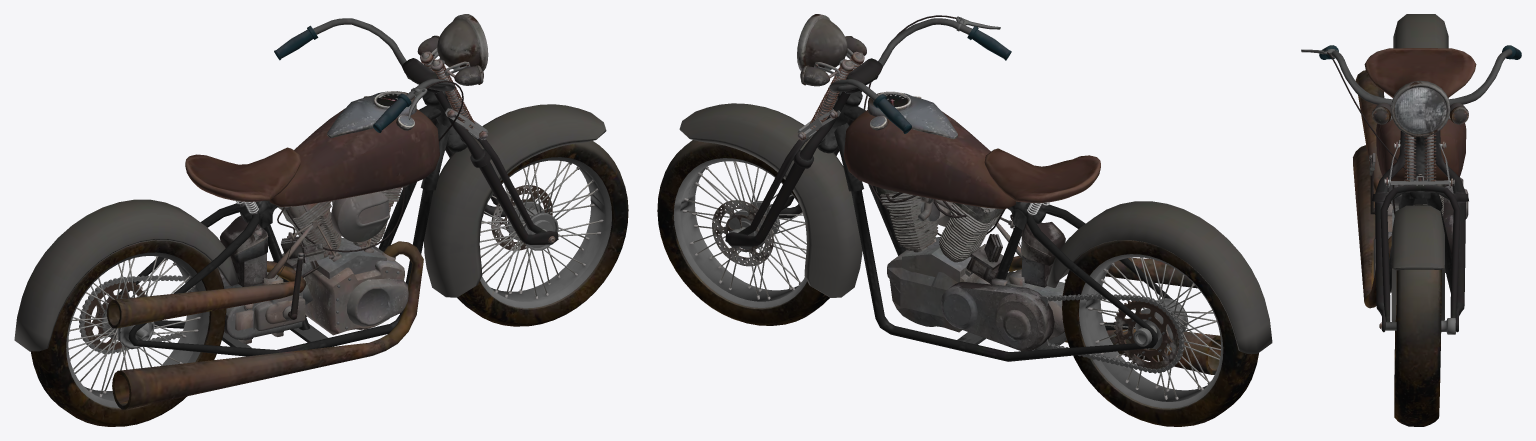
Rendered from motorbike.glb.
3 renders of one model, left to right at view 1: azimuth 30°, elevation 25°; view 2: azimuth 150°, elevation 25°; view 3: azimuth 270°, elevation 25°, orthographic. The views are drawn at different scales.
Visible parts, largest first — view 1: Object_9, Object_7, Object_4, Object_2, Object_8, Object_5, Object_6, Object_3; view 2: Object_9, Object_4, Object_7, Object_5, Object_8, Object_6, Object_3, Object_2; view 3: Object_9, Object_4, Object_7, Object_2, Object_8, Object_5.
Part boxes in pixels (x1,y1,x2,y2): Object_9: (14,14,606,356); Object_7: (220,18,545,343); Object_4: (30,141,628,426); Object_2: (107,241,423,409); Object_8: (222,56,488,348); Object_5: (220,161,603,298); Object_6: (278,187,401,261); Object_3: (79,275,184,354); Object_9: (679,14,1272,361); Object_4: (657,140,1258,426); Object_7: (738,18,1065,340); Object_5: (682,161,1054,351); Object_8: (797,57,1066,350); Object_6: (875,186,1003,262); Object_3: (1044,294,1184,373); Object_2: (1008,256,1220,374); Object_9: (1301,14,1521,332); Object_4: (1385,269,1455,426); Object_7: (1331,49,1512,322); Object_2: (1353,70,1391,308); Object_8: (1373,134,1448,292); Object_5: (1443,177,1468,255).
Size of the model in its own units: 2.32 by 1.18 by 0.7676.
Materials: 1 (1 with a texture image).
